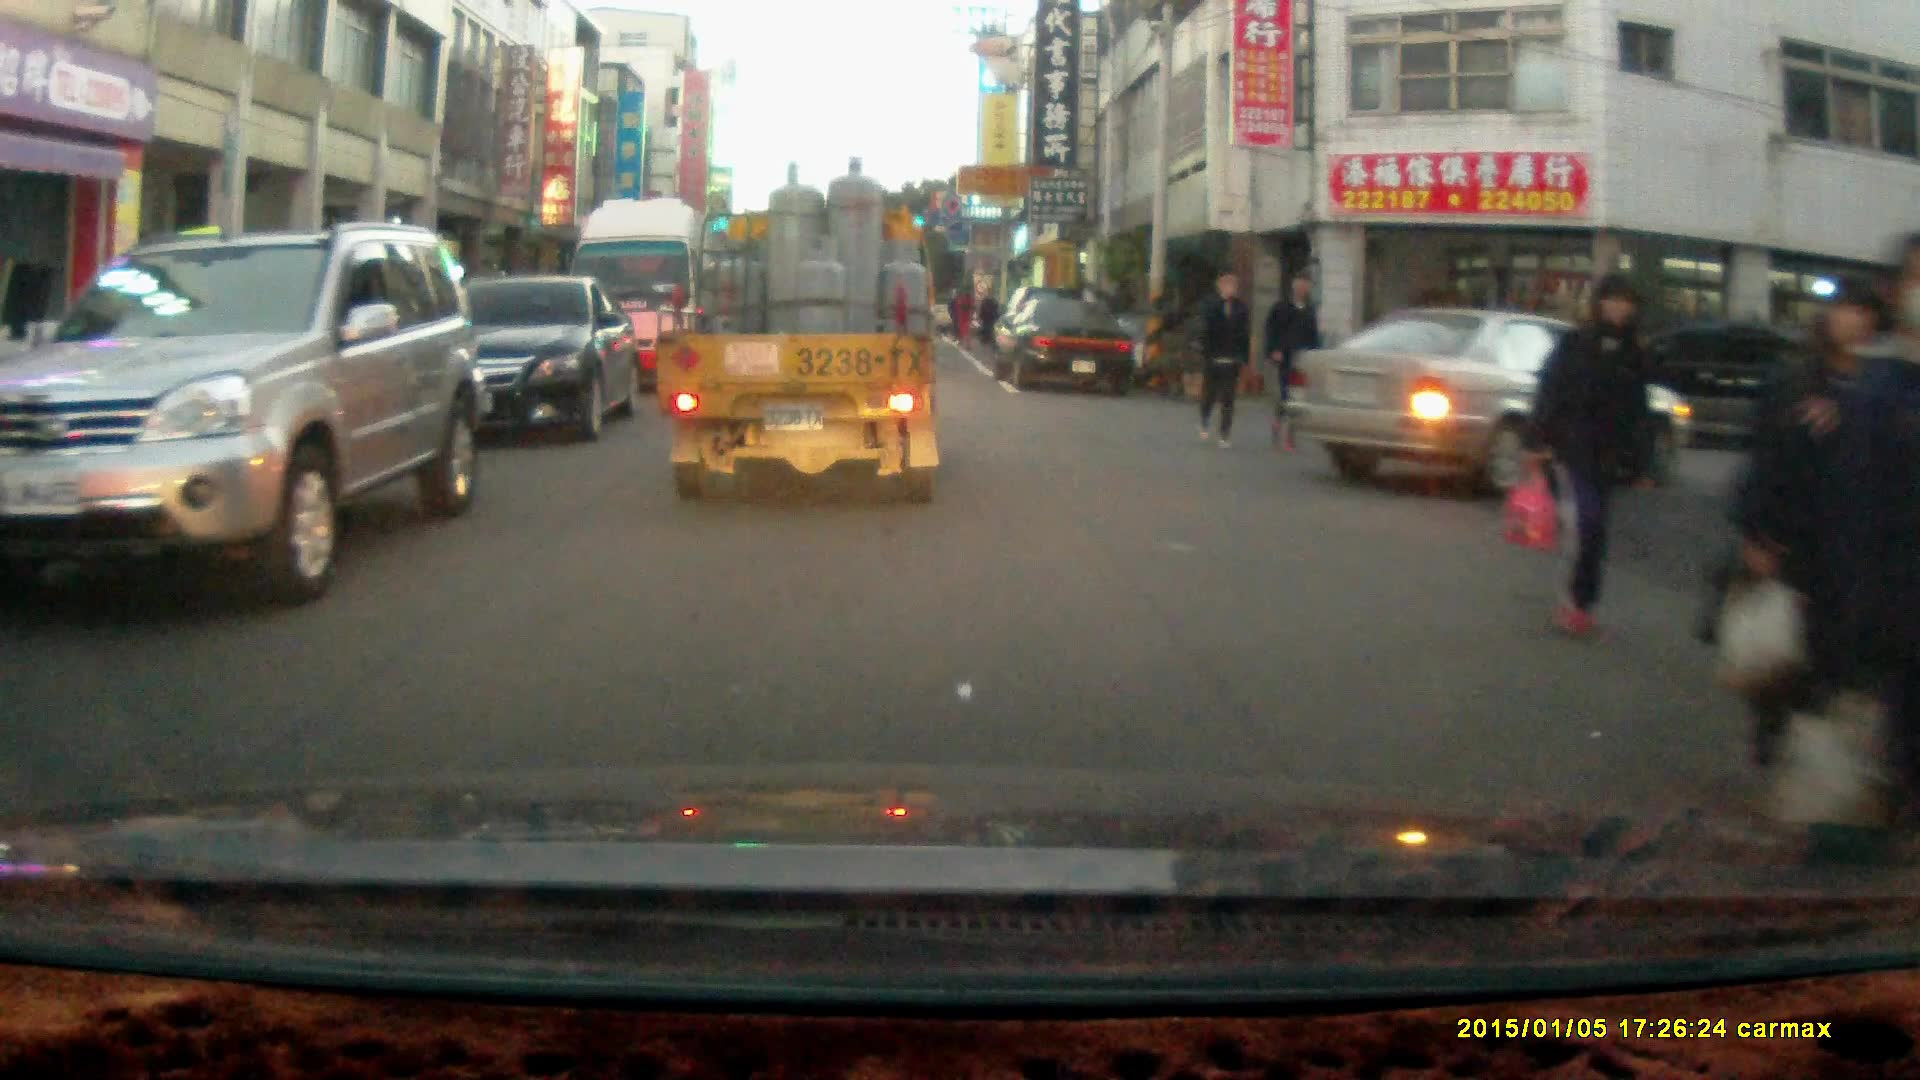pedestrian: (1731, 278, 1901, 810), (1823, 232, 1920, 853), (1531, 280, 1658, 643), (1260, 273, 1323, 452), (1192, 265, 1248, 451), (973, 282, 1000, 350)
vehicle: (2, 222, 489, 614), (656, 159, 942, 514), (1291, 310, 1698, 511), (390, 279, 640, 451), (566, 200, 738, 402), (988, 301, 1138, 400)
